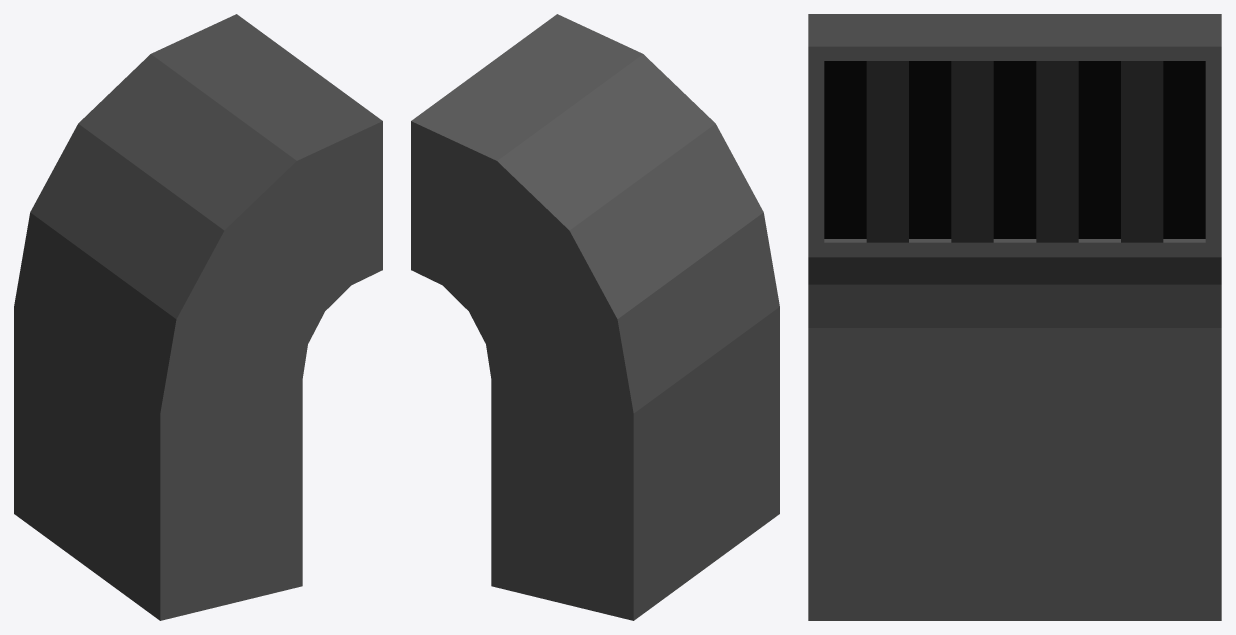
The model's file is Prop_RoofVent_02.fbx.
3 renders of one model, left to right at view 1: azimuth 30°, elevation 25°; view 2: azimuth 150°, elevation 25°; view 3: azimuth 270°, elevation 25°, orthographic. The views are drawn at different scales.
Parts seen in each view (by area): view 1: Prop_RoofVent_02; view 2: Prop_RoofVent_02; view 3: Prop_RoofVent_02.
Boxes of the visible parts, box(x1,y1,x2,y2) form: Prop_RoofVent_02: box(14, 14, 382, 620); Prop_RoofVent_02: box(411, 14, 779, 620); Prop_RoofVent_02: box(808, 14, 1221, 620).
Size of the model in its own units: 53.66 by 103 by 61.05.
